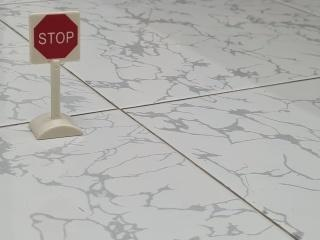stop: (21, 6, 86, 72)
